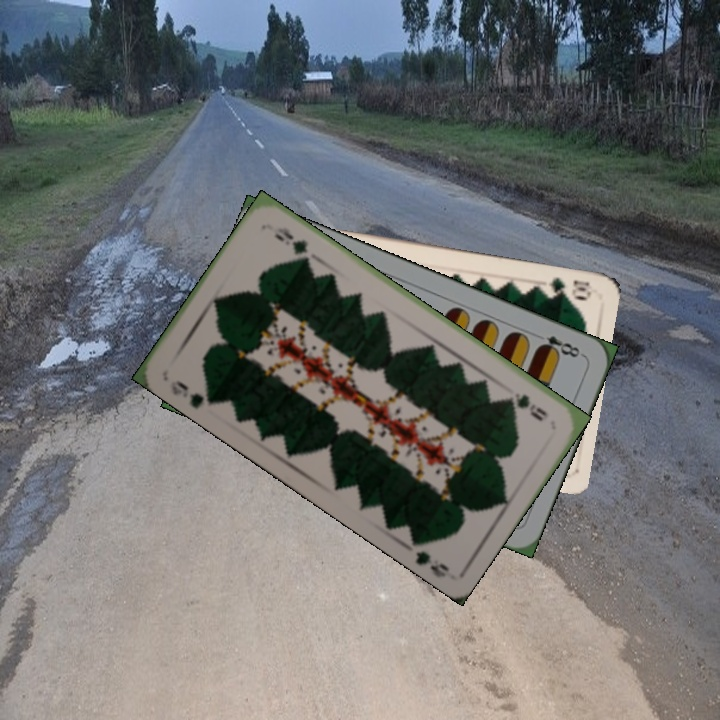E8: (533, 331, 586, 361)
G10: (545, 273, 594, 302)
G9: (166, 376, 218, 412), (502, 388, 551, 424)
